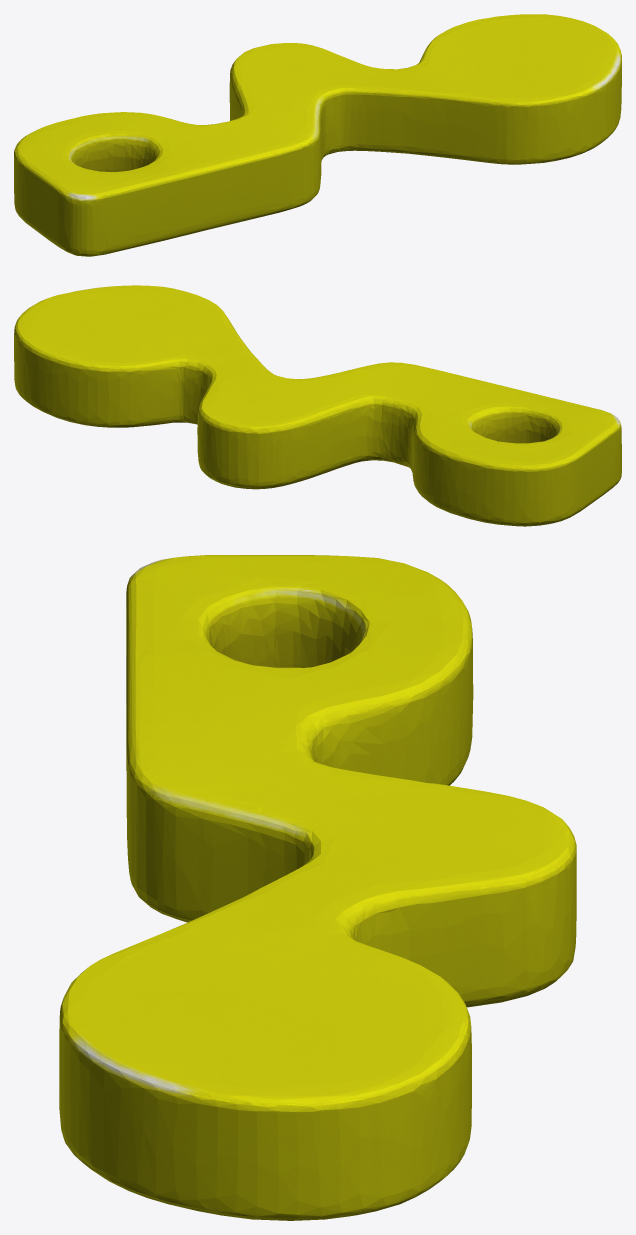
3 views of the same model, one above another, from view 1: azimuth 30°, elevation 25°; view 2: azimuth 150°, elevation 25°; view 3: azimuth 270°, elevation 25° (orthographic). The views are drawn at different scales.
Visible parts, largest first — view 1: world; view 2: world; view 3: world.
Boxes of the visible parts, left/top/right/bottom form: world: left=14, top=14, right=621, bottom=256; world: left=14, top=285, right=621, bottom=526; world: left=59, top=555, right=576, bottom=1220.
Bounding box in the file's own units: 0.999 × 0.1088 × 0.3955.
1 material, 1 textured.
